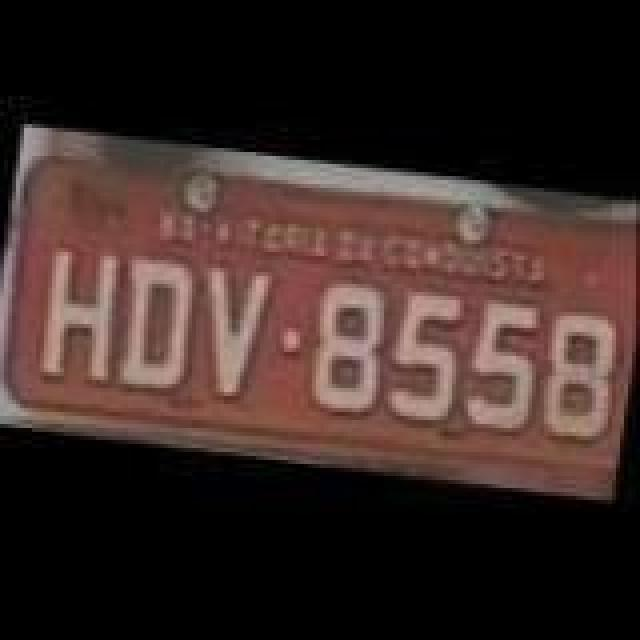5: (384, 288, 476, 436), (464, 296, 556, 444)
8: (532, 304, 632, 452), (306, 274, 394, 422)
D: (110, 250, 214, 402)
H: (38, 244, 134, 392)
V: (190, 262, 286, 406)
